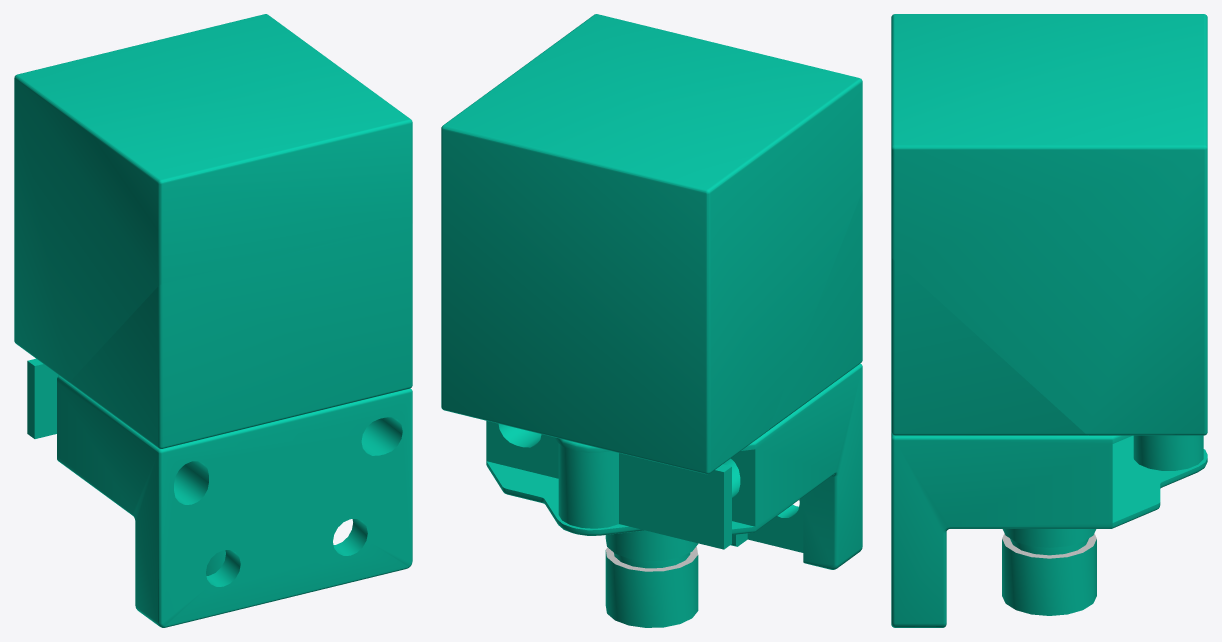
File: NRB20-L3-E2-IO-V1.gltf
The picture shows the model from 3 angles, left to right: view 1: azimuth 30°, elevation 25°; view 2: azimuth 150°, elevation 25°; view 3: azimuth 270°, elevation 25°; orthographic projection. The views are drawn at different scales.
Parts seen in each view (by area): view 1: _Inductive_sensor10004202_0, _Inductive_sensor10004204_0, _Inductive_sensor10004203_0; view 2: _Inductive_sensor10004202_0, _Inductive_sensor10004204_0, _Inductive_sensor10004203_0; view 3: _Inductive_sensor10004202_0, _Inductive_sensor10004204_0, _Inductive_sensor10004203_0.
Boxes of the visible parts, box(x1,y1,x2,y2) form: _Inductive_sensor10004202_0: box(14, 14, 412, 382); _Inductive_sensor10004204_0: box(27, 358, 412, 627); _Inductive_sensor10004203_0: box(69, 223, 412, 575); _Inductive_sensor10004202_0: box(441, 14, 862, 474); _Inductive_sensor10004204_0: box(486, 363, 862, 569); _Inductive_sensor10004203_0: box(605, 191, 862, 627); _Inductive_sensor10004202_0: box(891, 14, 1207, 435); _Inductive_sensor10004204_0: box(891, 433, 1207, 627); _Inductive_sensor10004203_0: box(891, 257, 1096, 615).
Size of the model in its own units: 40 by 72 by 40.
